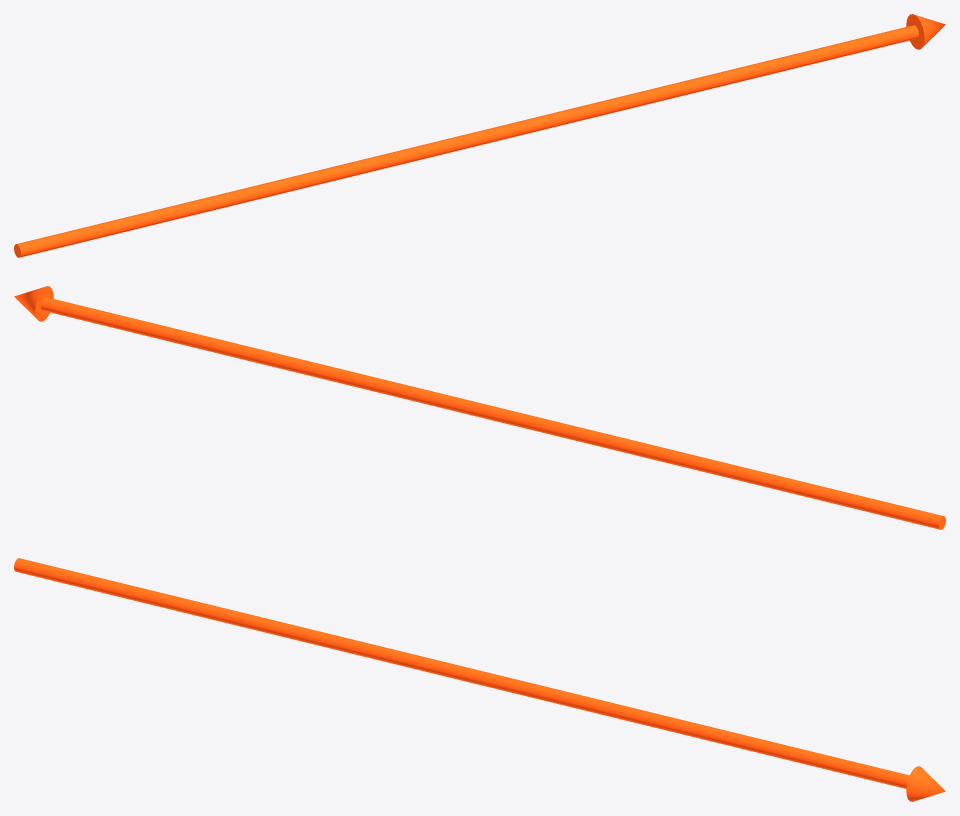
File: pipe_insulation_system_flow.glb
The picture shows the model from 3 angles, top to bottom: view 1: azimuth 30°, elevation 25°; view 2: azimuth 150°, elevation 25°; view 3: azimuth 330°, elevation 25°; orthographic projection.
Visible parts, largest first — view 1: hot; view 2: hot; view 3: hot.
Part boxes in pixels (x1,y1,x2,y2): hot: [14, 14, 945, 257]; hot: [14, 286, 945, 529]; hot: [14, 558, 945, 801].
Bounding box in the file's own units: 1.82 × 0.0624 × 0.0624.
